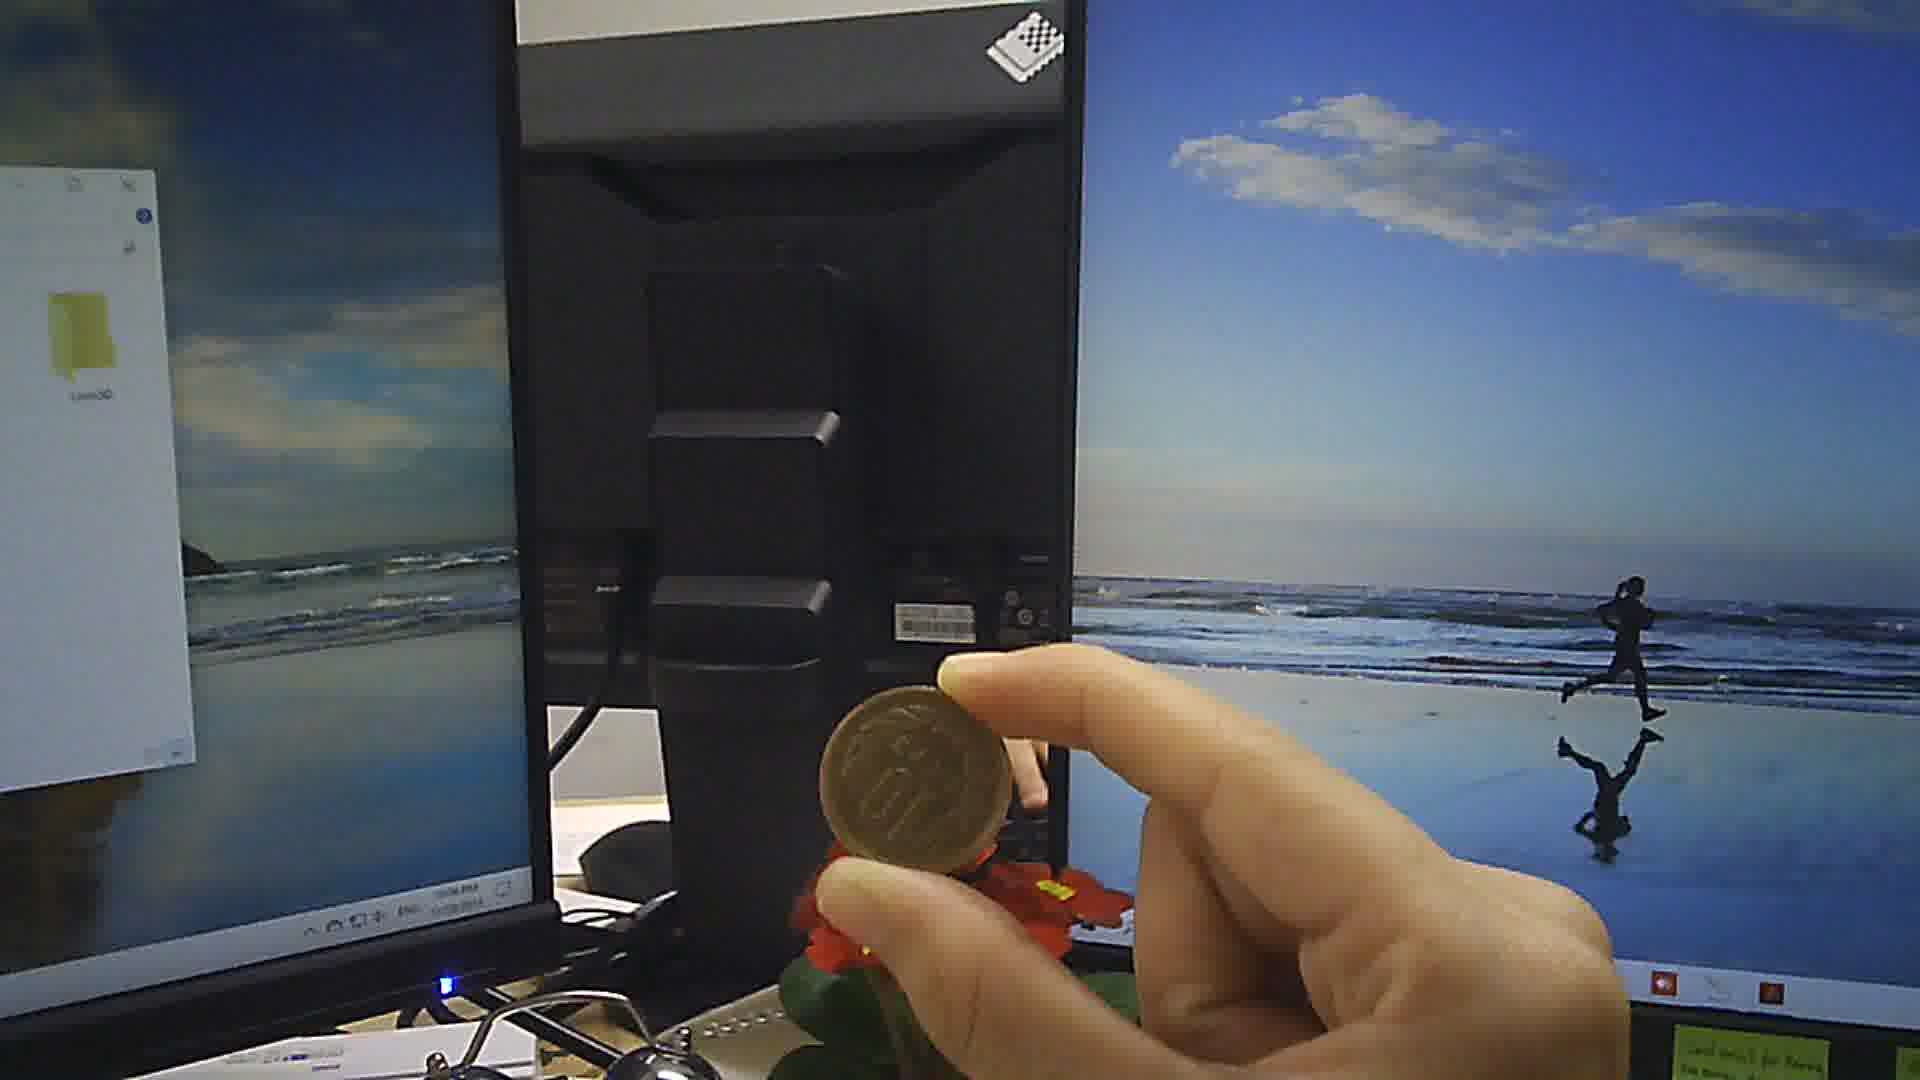10 Yen: (819, 678, 1013, 885)
